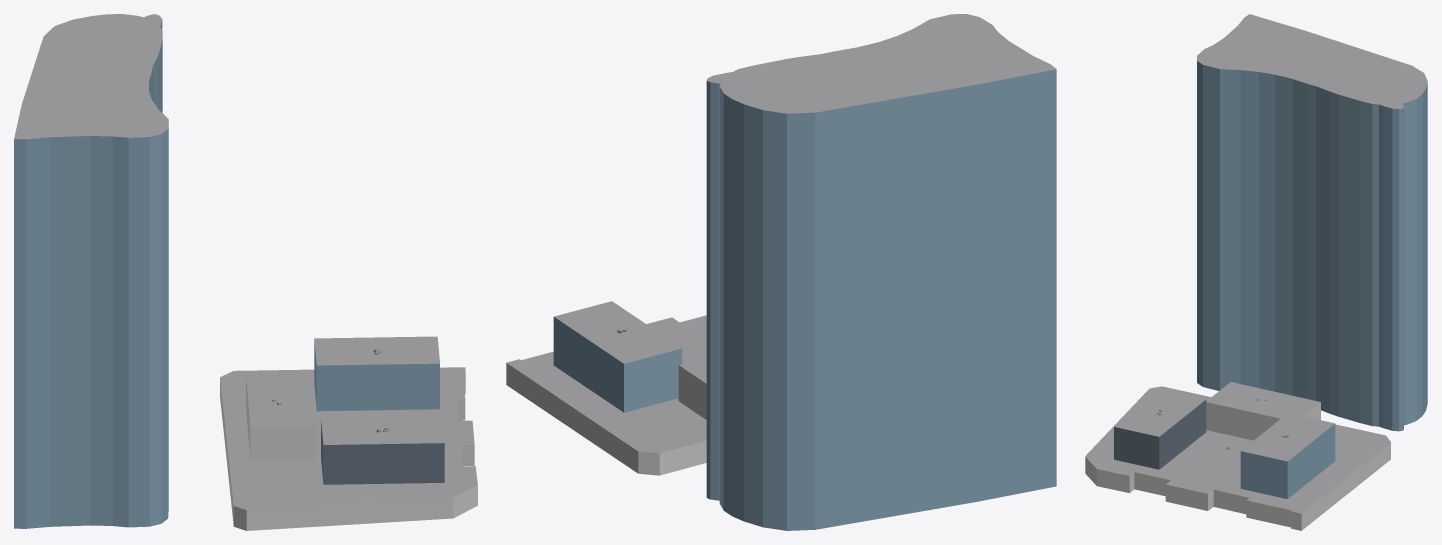
Rendered from building_-3_-1.glb.
The picture shows the model from 3 angles, left to right: view 1: azimuth 30°, elevation 25°; view 2: azimuth 150°, elevation 25°; view 3: azimuth 270°, elevation 25°; orthographic projection. The views are drawn at different scales.
Parts seen in each view (by area): view 1: glass_blue, roof, concrete_light, glass_dark; view 2: glass_blue, roof, concrete_light; view 3: glass_blue, roof, concrete_light, glass_dark.
Boxes of the visible parts, x1,y1,x2,y2 form: glass_blue: [14, 19, 439, 528]; roof: [14, 14, 477, 510]; concrete_light: [220, 373, 477, 530]; glass_dark: [321, 420, 444, 484]; glass_blue: [553, 69, 1056, 530]; roof: [506, 14, 1056, 453]; concrete_light: [506, 363, 706, 475]; glass_blue: [1197, 61, 1427, 499]; roof: [1085, 14, 1427, 513]; concrete_light: [1085, 402, 1390, 530]; glass_dark: [1114, 400, 1206, 469].
Size of the model in its own units: 342 by 264 by 254.
